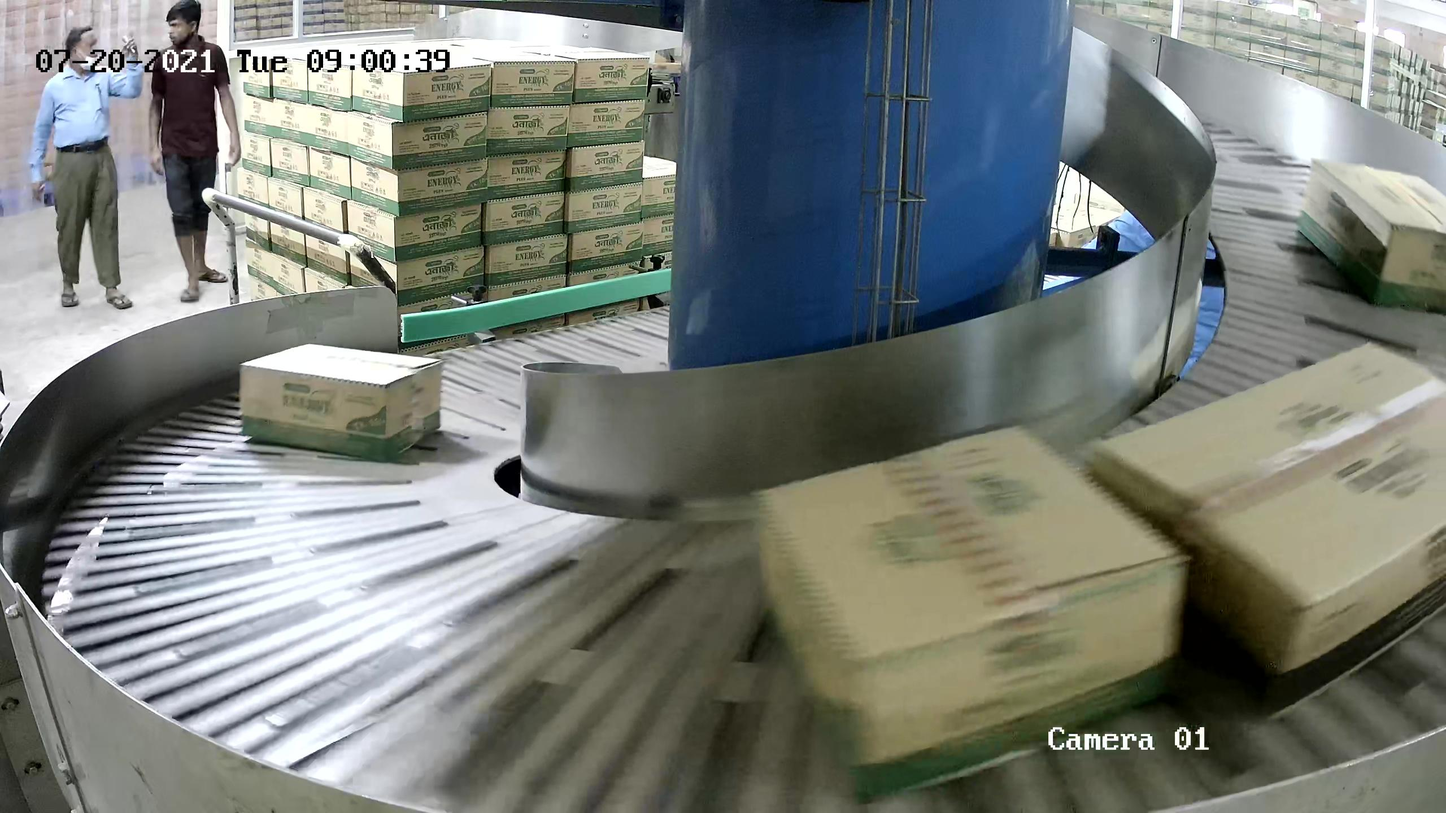Box: (747, 420, 1195, 804), (1081, 340, 1446, 723), (238, 340, 445, 464), (1295, 157, 1446, 317)
